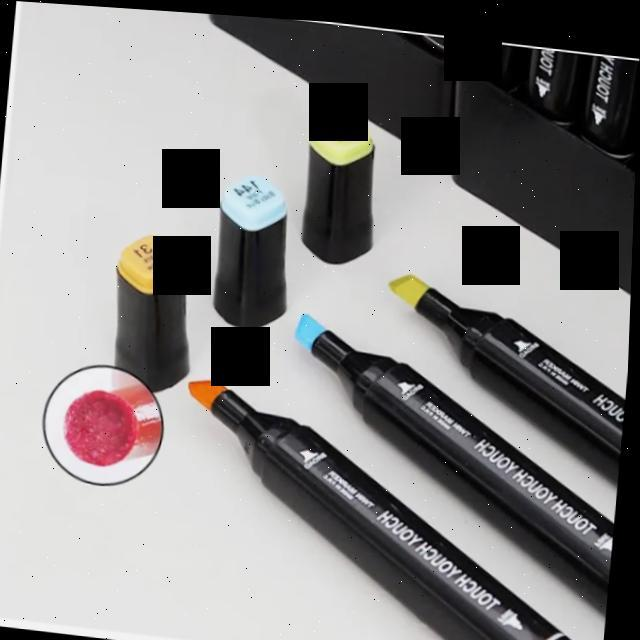marker: (192, 385, 547, 637)
